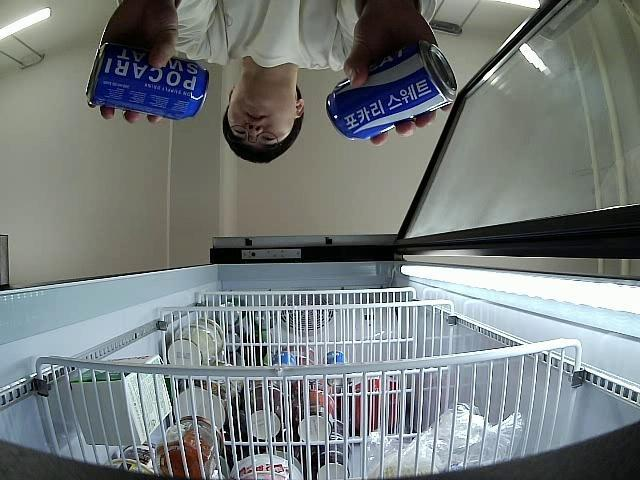13_pocariSweat: (326, 40, 458, 142), (83, 40, 210, 120)
